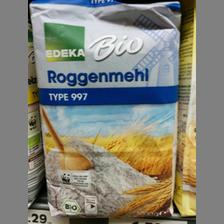Mehl: (28, 2, 180, 216)
